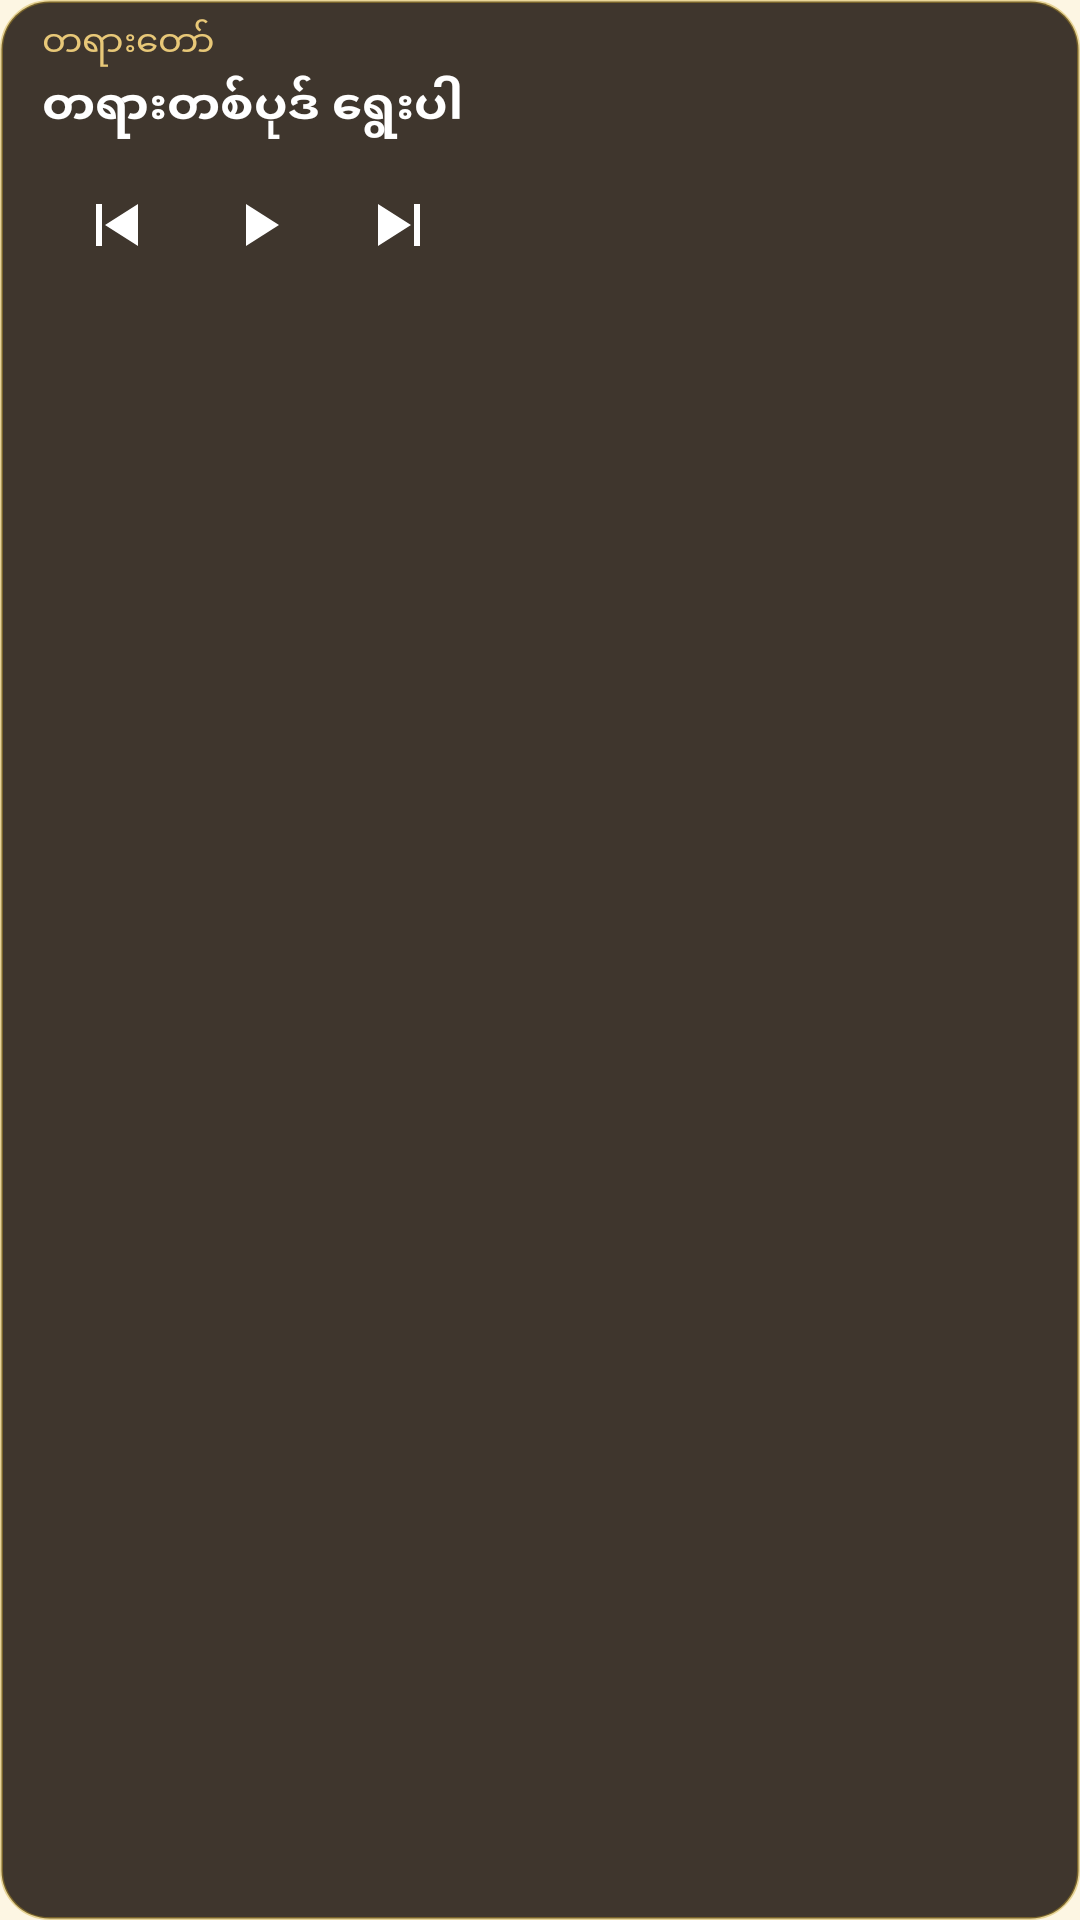

Icons on this 1080x1920 Android screen, each with its box as (x1, y1, x2, y2):
Next: (378, 204, 420, 246)
Play / Pause: (246, 204, 279, 246)
Previous: (96, 204, 138, 246)
